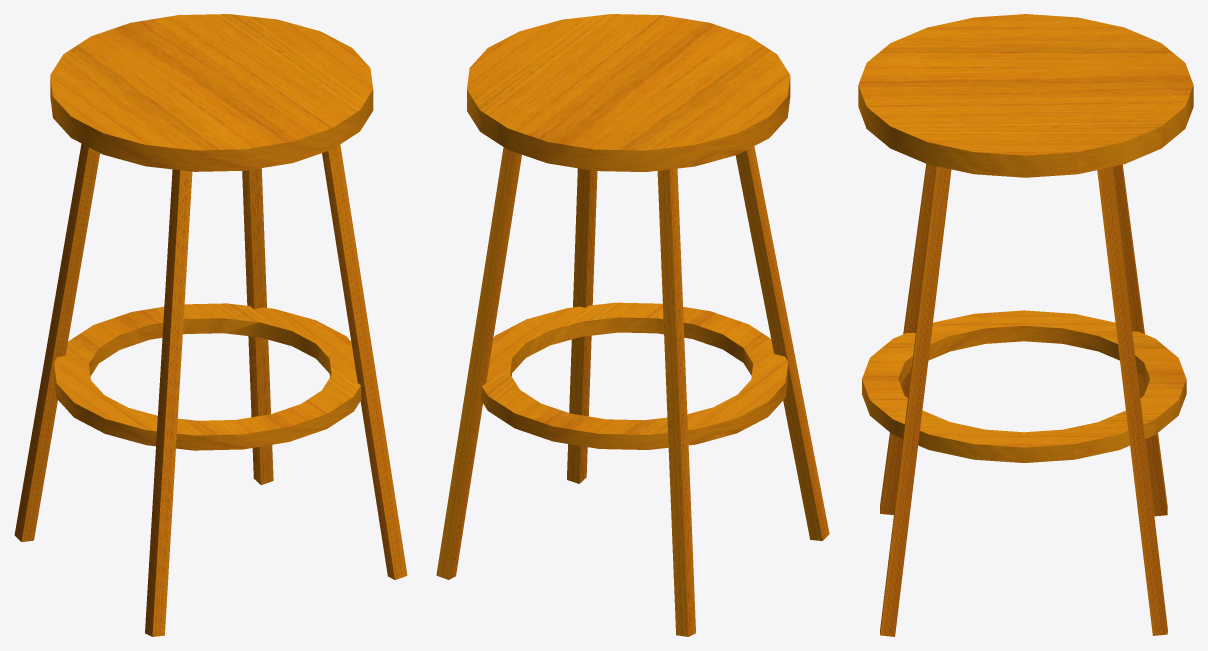
The model's file is BancoMadera.obj.
The picture shows the model from 3 angles, left to right: view 1: azimuth 30°, elevation 25°; view 2: azimuth 150°, elevation 25°; view 3: azimuth 270°, elevation 25°; orthographic projection. The views are drawn at different scales.
Parts seen in each view (by area): view 1: Banco:pCylinder2; view 2: Banco:pCylinder2; view 3: Banco:pCylinder2.
Boxes of the visible parts, x1,y1,x2,y2 form: Banco:pCylinder2: [14, 14, 407, 636]; Banco:pCylinder2: [436, 14, 829, 636]; Banco:pCylinder2: [858, 14, 1193, 636].
Bounding box in the file's own units: 3.12 × 5.04 × 3.12.
Materials: 1 (1 with a texture image).
